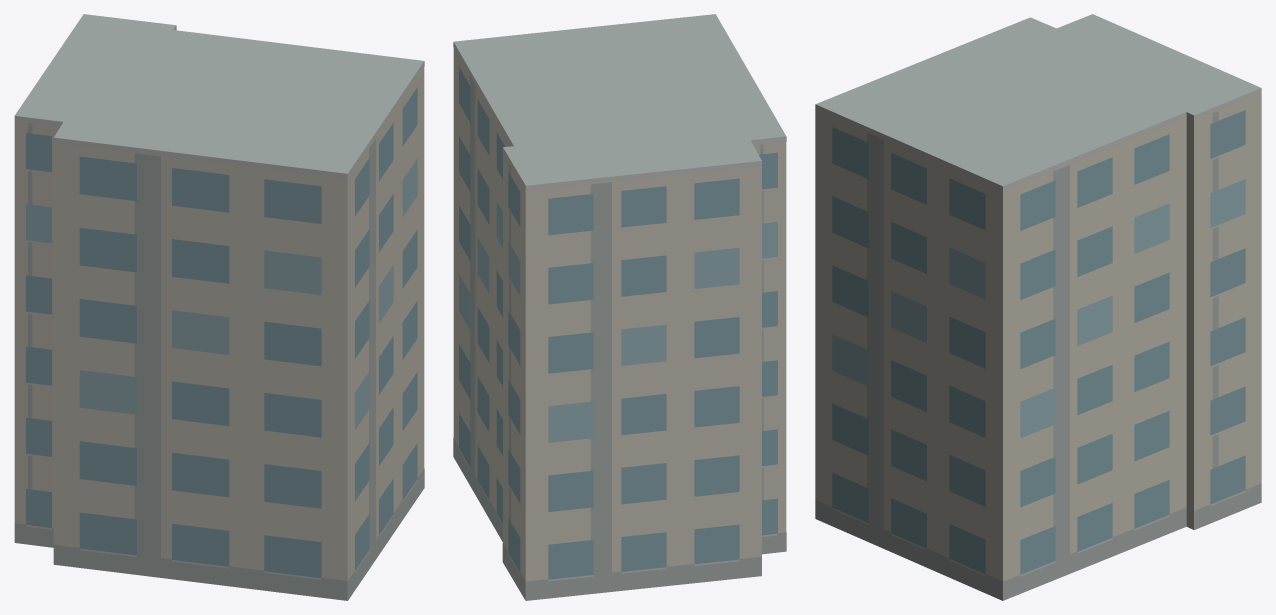
Rendered from survey-upis-32887605.glb.
The picture shows the model from 3 angles, left to right: view 1: azimuth 30°, elevation 25°; view 2: azimuth 150°, elevation 25°; view 3: azimuth 270°, elevation 25°; orthographic projection. The views are drawn at different scales.
Visible parts, largest first — view 1: survey-upis-32887605.tmp; view 2: survey-upis-32887605.tmp; view 3: survey-upis-32887605.tmp.
Boxes of the visible parts, <box> form: survey-upis-32887605.tmp: <box>14,14,424,600</box>; survey-upis-32887605.tmp: <box>453,14,786,600</box>; survey-upis-32887605.tmp: <box>815,14,1261,600</box>.
Bounding box in the file's own units: 16.31 × 18.3 × 17.85.
